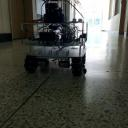cart: (20, 22, 88, 76)
